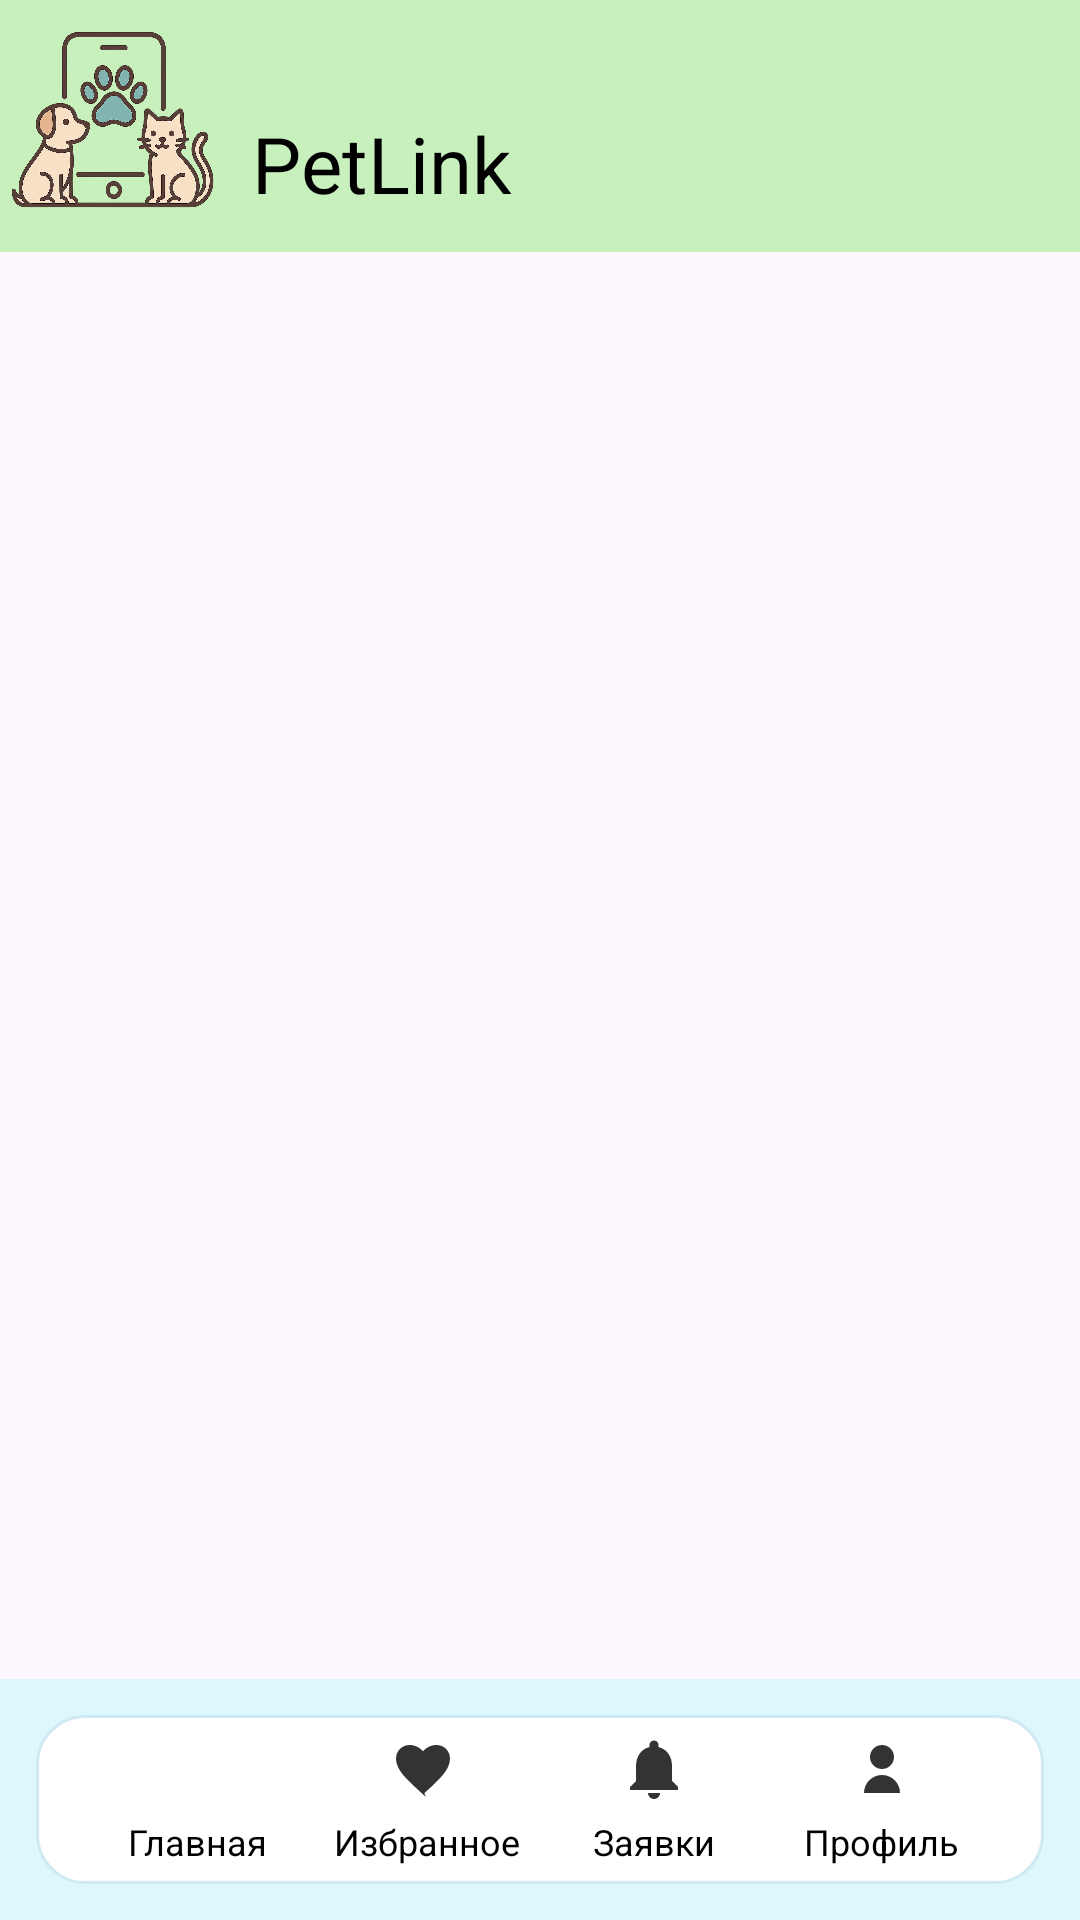

Icons on this 1080 x 1920 Android screen, each with the point to tap as (x,y):
bell: (654,1769)
